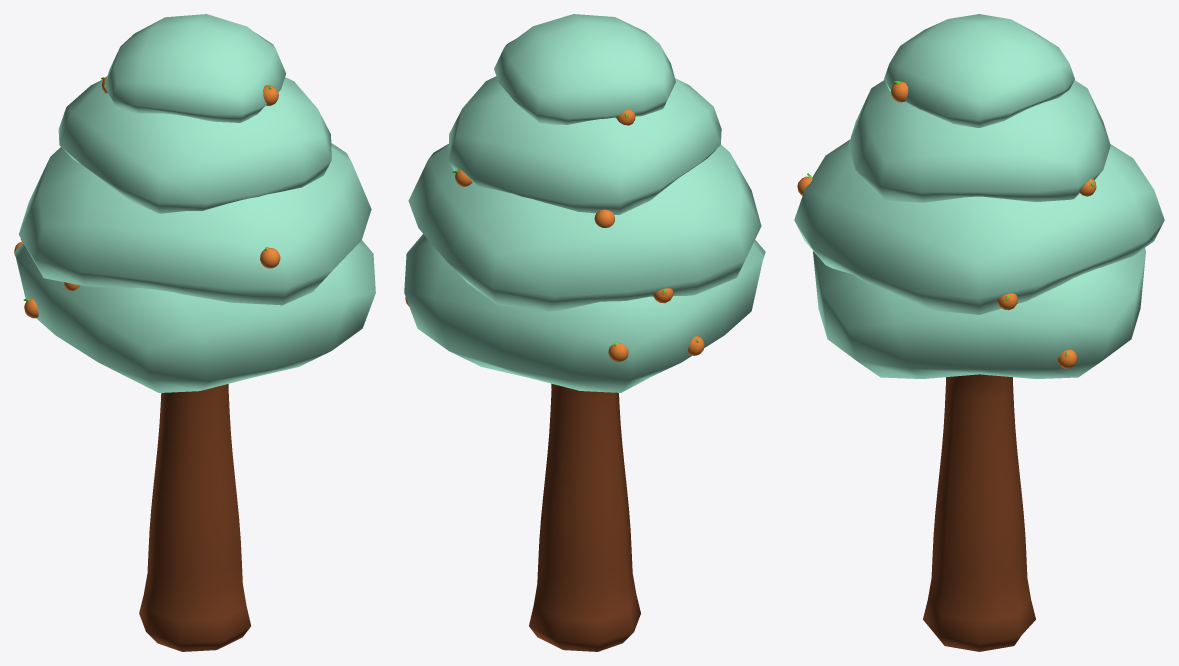
3 views of the same model, side by side, from view 1: azimuth 30°, elevation 25°; view 2: azimuth 150°, elevation 25°; view 3: azimuth 270°, elevation 25° (orthographic).
Parts seen in each view (by area): view 1: Plane.004, Trunk.004; view 2: Plane.004, Trunk.004; view 3: Plane.004, Trunk.004.
Boxes of the visible parts, x1,y1,x2,y2 form: Plane.004: (14,14,375,392); Trunk.004: (139,384,250,651); Plane.004: (404,14,765,392); Trunk.004: (529,383,640,651); Plane.004: (794,14,1164,378); Trunk.004: (923,374,1035,651).
Bounding box in the file's own units: 760 × 1392 × 760.
